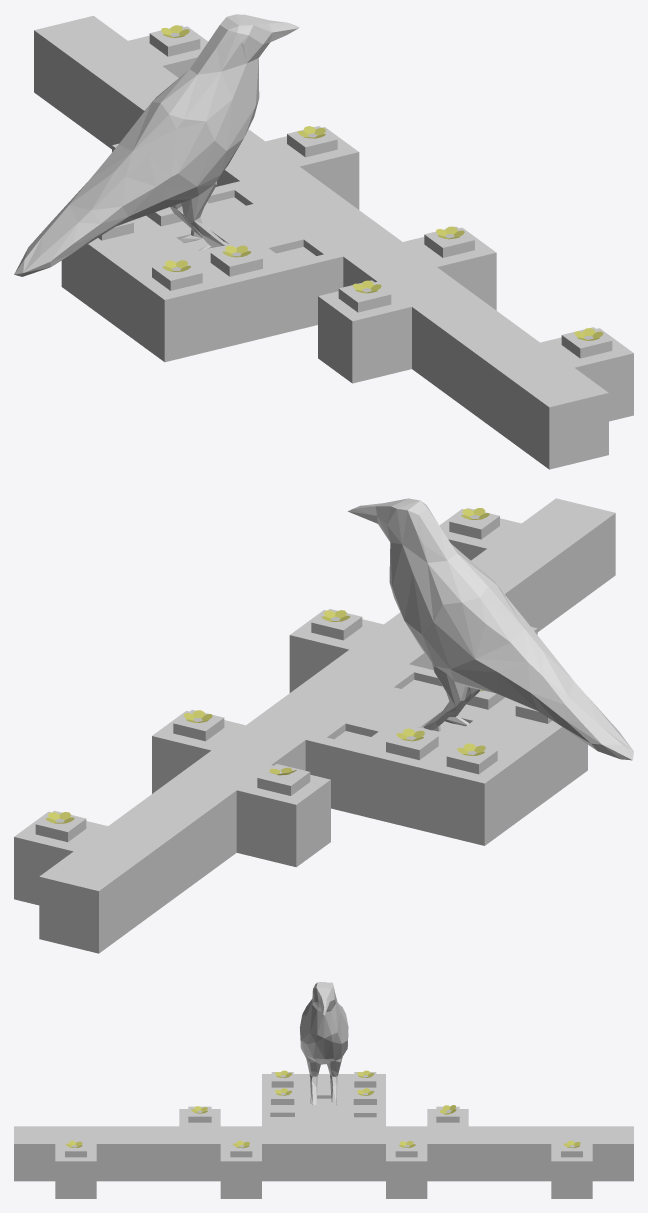
File: Vrana level.fbx
3 views of the same model, one above another, from view 1: azimuth 30°, elevation 25°; view 2: azimuth 150°, elevation 25°; view 3: azimuth 270°, elevation 25° (orthographic). The views are drawn at different scales.
Parts seen in each view (by area): view 1: Cube, Volume_Mesher; view 2: Cube, Volume_Mesher; view 3: Cube, Volume_Mesher.
Part boxes in pixels (x1,y1,x2,y2): Cube: (34, 15, 633, 469); Volume_Mesher: (14, 14, 299, 276); Cube: (14, 498, 615, 953); Volume_Mesher: (348, 498, 633, 760); Cube: (14, 1072, 633, 1198); Volume_Mesher: (300, 982, 348, 1105).
Size of the model in its own units: 66.42 by 43.9 by 150.
